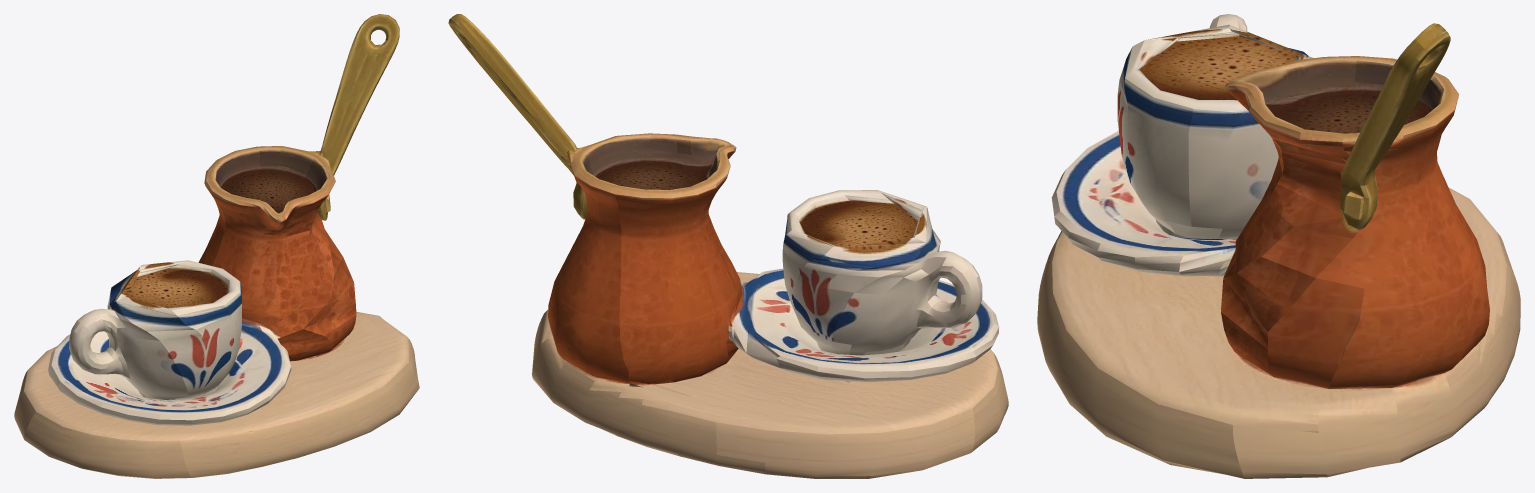
Rendered from kahve.glb.
3 renders of one model, left to right at view 1: azimuth 30°, elevation 25°; view 2: azimuth 150°, elevation 25°; view 3: azimuth 270°, elevation 25°, orthographic. The views are drawn at different scales.
Parts seen in each view (by area): view 1: Mesh0; view 2: Mesh0; view 3: Mesh0.
Boxes of the visible parts, x1,y1,x2,y2 form: Mesh0: (14, 14, 419, 478); Mesh0: (448, 14, 1008, 478); Mesh0: (1037, 14, 1520, 478).
Bounding box in the file's own units: 1.89 × 1.35 × 1.24.
Materials: 1 (1 with a texture image).
